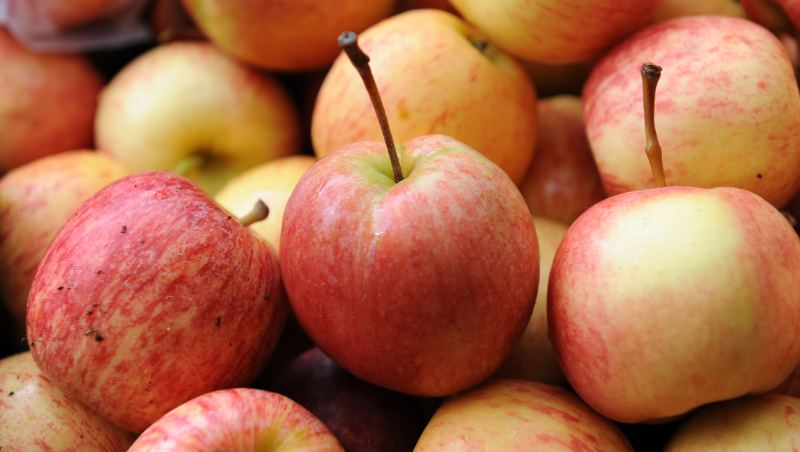apple: (24, 168, 286, 429), (278, 141, 538, 400), (546, 188, 800, 419)
